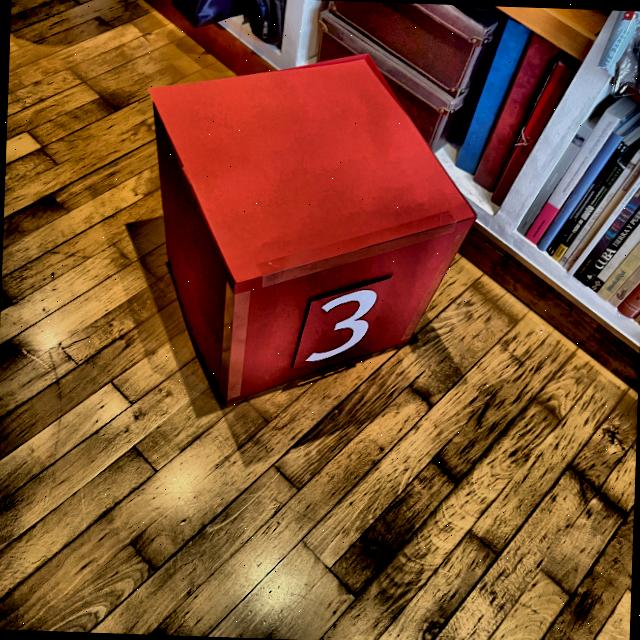red box: (140, 48, 480, 416)
three: (307, 287, 381, 369)
